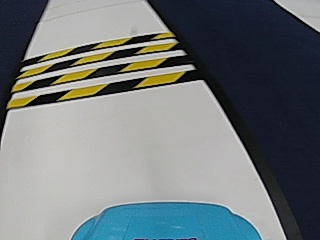bump: (31, 35, 171, 103)
